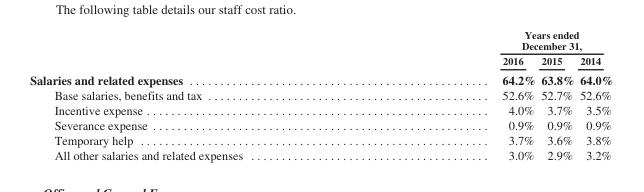table: (29, 28, 612, 161)
table column: (29, 28, 371, 161), (371, 28, 537, 161), (537, 28, 576, 161), (576, 28, 612, 161)
table column header: (29, 28, 612, 69)
table row: (29, 28, 612, 52), (29, 69, 612, 87), (29, 52, 612, 69), (29, 87, 612, 102), (29, 102, 612, 117), (29, 117, 612, 132), (29, 146, 612, 161), (29, 132, 612, 146)
table spanning cell: (371, 28, 612, 52)
